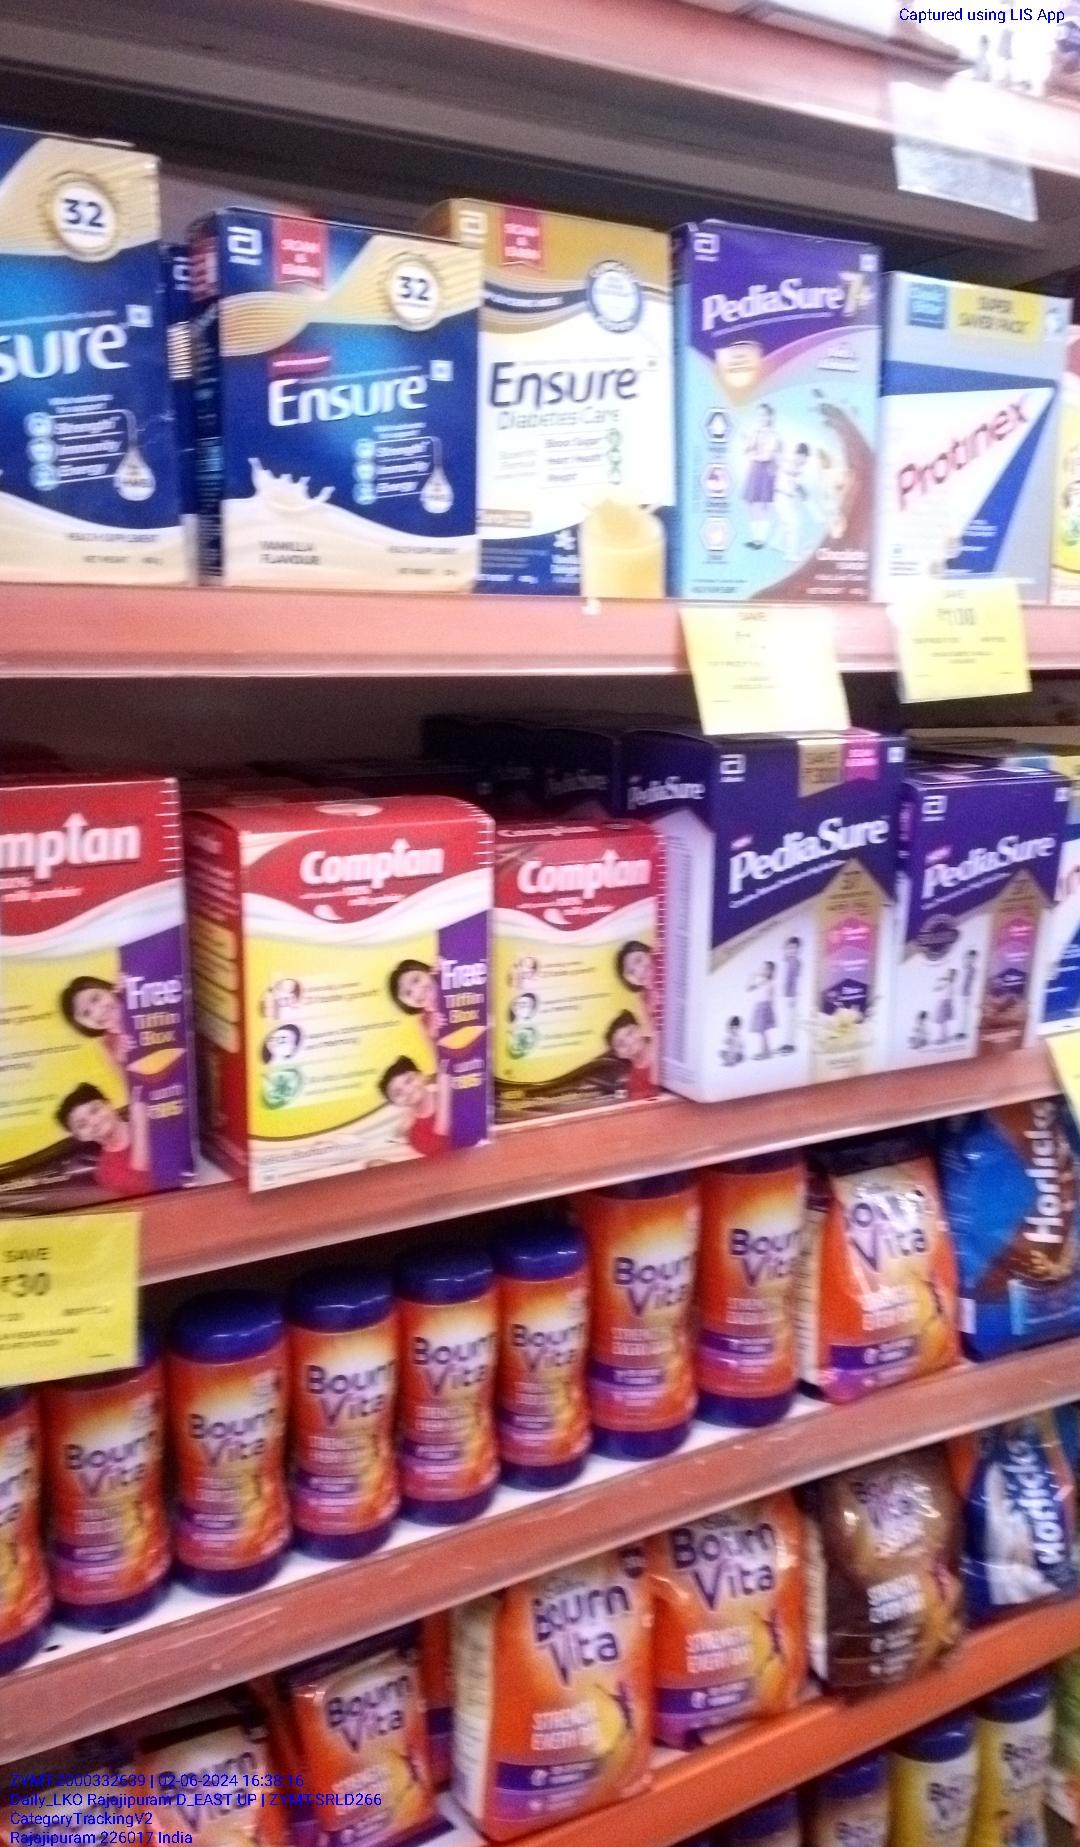BOURN_VITA_1_KG_JAR: (600, 1180, 697, 1454), (706, 1166, 804, 1425)
BOURN_VITA_500_G_JAR: (171, 1307, 288, 1589), (60, 1364, 165, 1632), (298, 1297, 405, 1555), (411, 1276, 501, 1521), (510, 1240, 594, 1488)
BOURN_VITA_750_G_POUCH: (482, 1587, 645, 1847), (657, 1505, 805, 1727)
ENSURE_VANILLA_400_G_PACK: (220, 210, 476, 587), (482, 203, 679, 596)
PEDIASURE_7_PLUS_CHOCOLATE_400_G_PACK: (692, 225, 874, 603)
